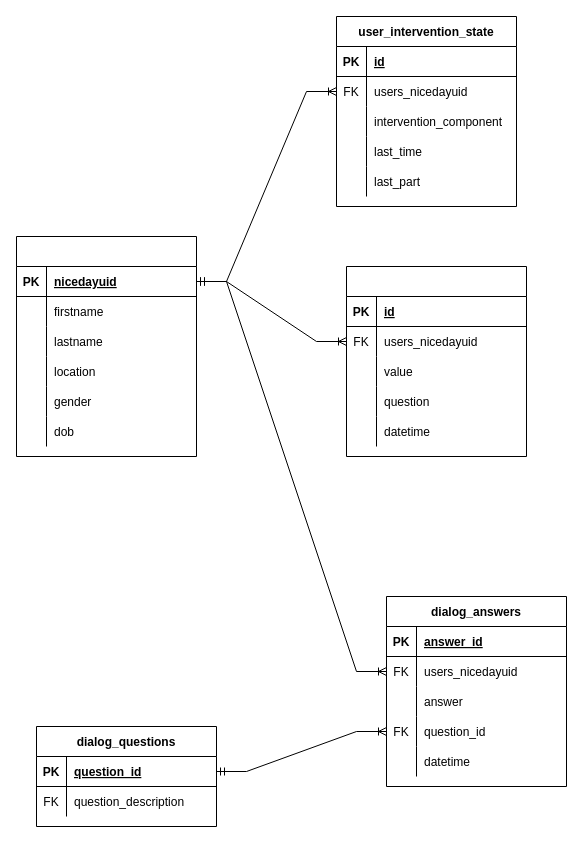
Image size: 583x843. Some labels were removed from this diagram. The box of each missing label's shape, as (x1, y1, x2, y2) in pixels:
closed_user_answers: (346, 266, 526, 456)
users: (16, 236, 196, 456)
